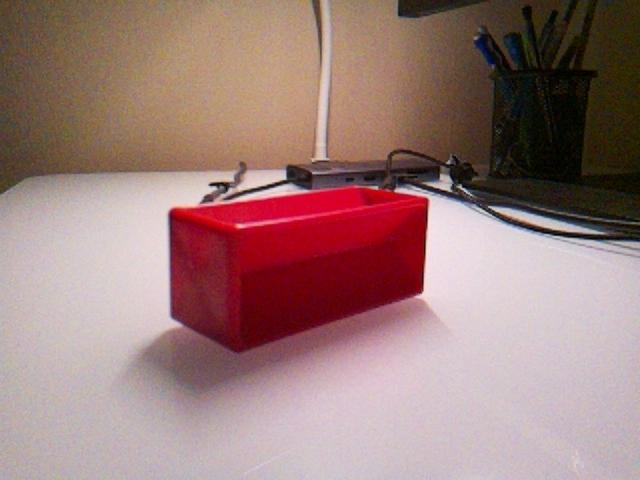red: (167, 185, 430, 353)
